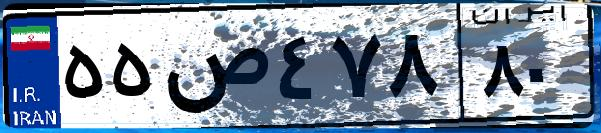0: (525, 38, 570, 115)
4: (270, 28, 330, 110)
5: (57, 26, 110, 100), (110, 28, 158, 98)
7: (330, 28, 385, 110)
8: (385, 28, 445, 110), (475, 38, 525, 113)
ص: (158, 20, 270, 120)
